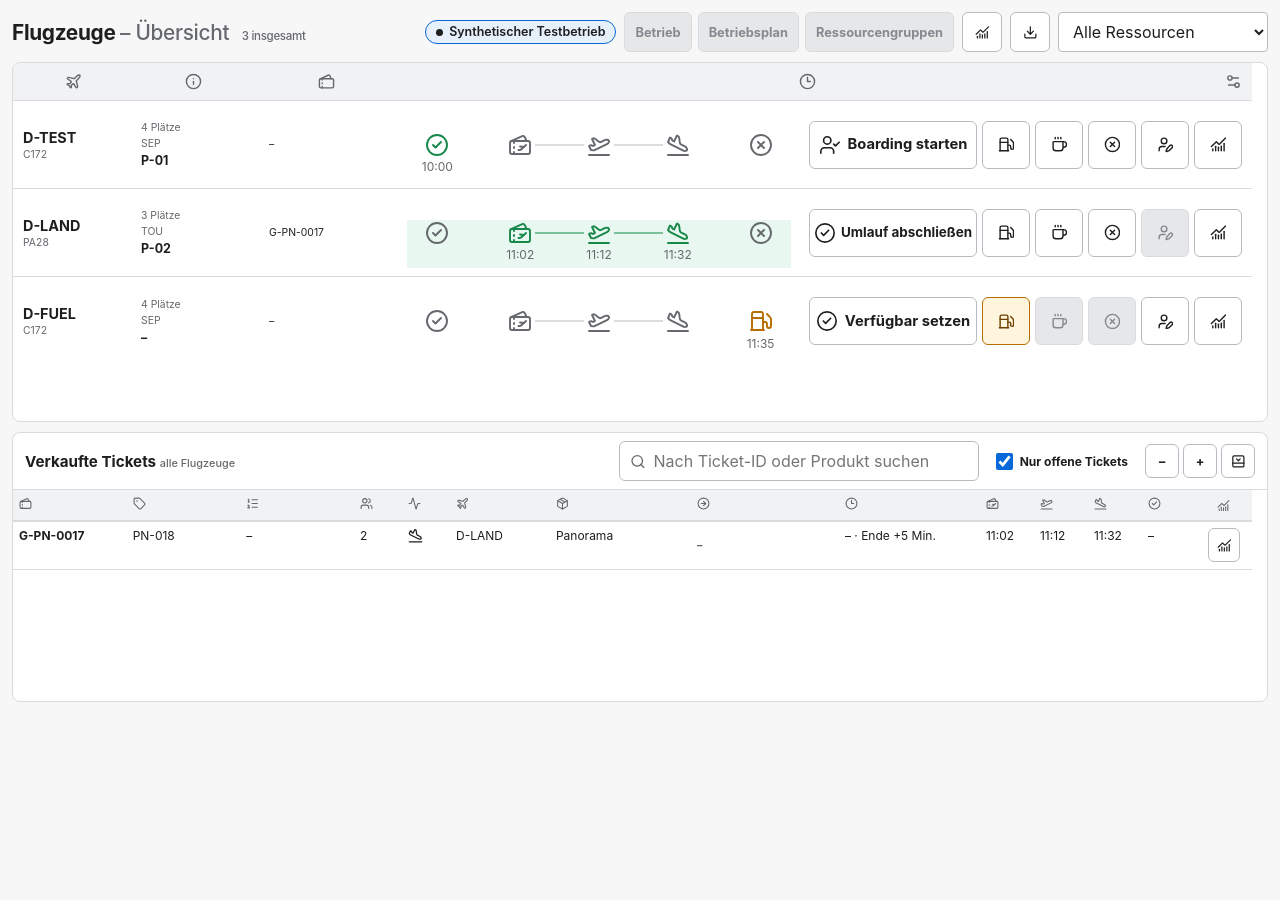
Flight Director operational coordination › keeps ticket sorting and search local to the sold-ticket overview
Step 1. Click the button named "Ticketgruppe sortieren · Standardsortierung" → {"x": 74, "y": 504}, box top-left (19, 497), bottom-right (129, 510)
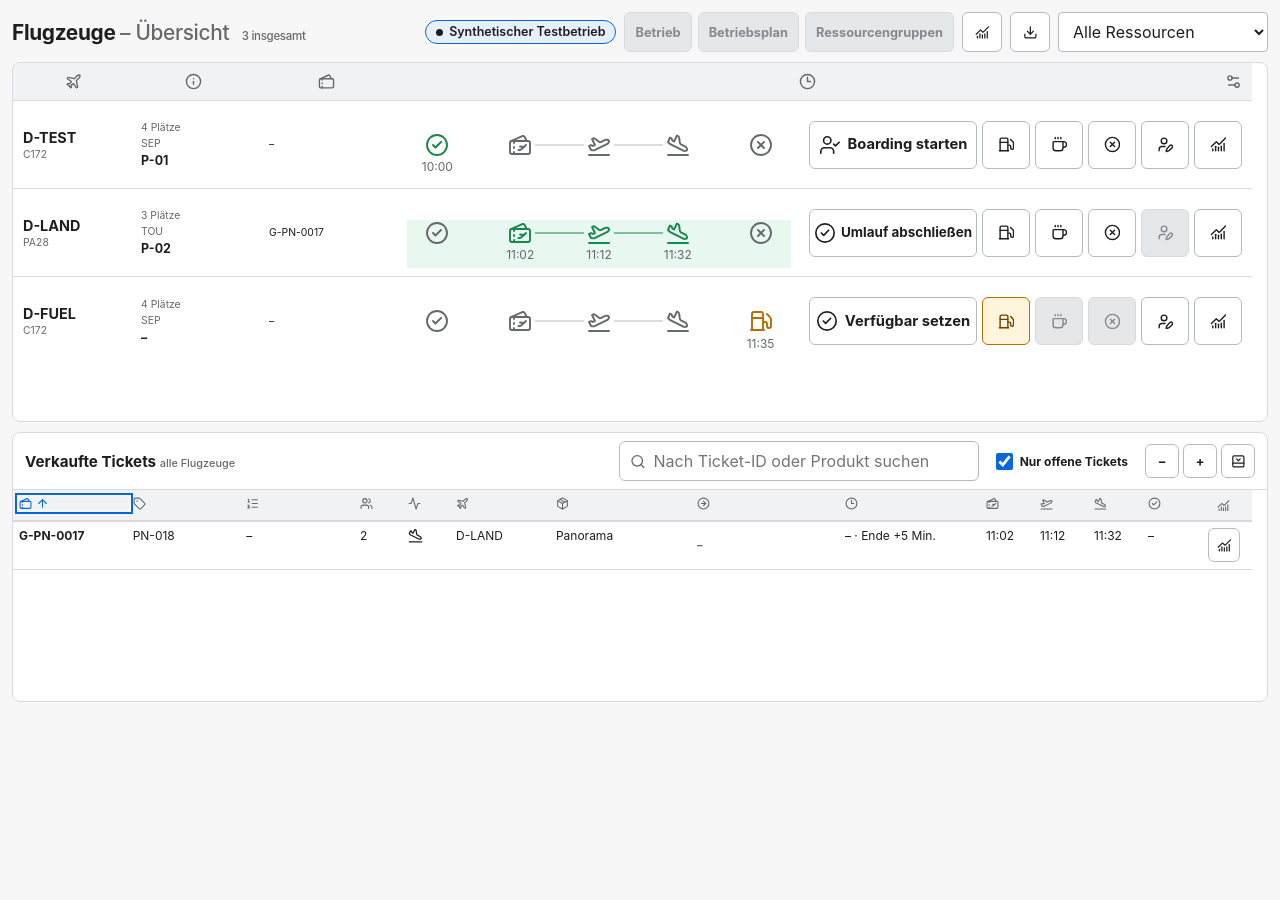
Result: the button named "Ticketgruppe sortieren · aufsteigend" is shown
Step 2. Click the button named "Ticketgruppe sortieren · aufsteigend" → {"x": 74, "y": 504}, box top-left (19, 497), bottom-right (129, 510)
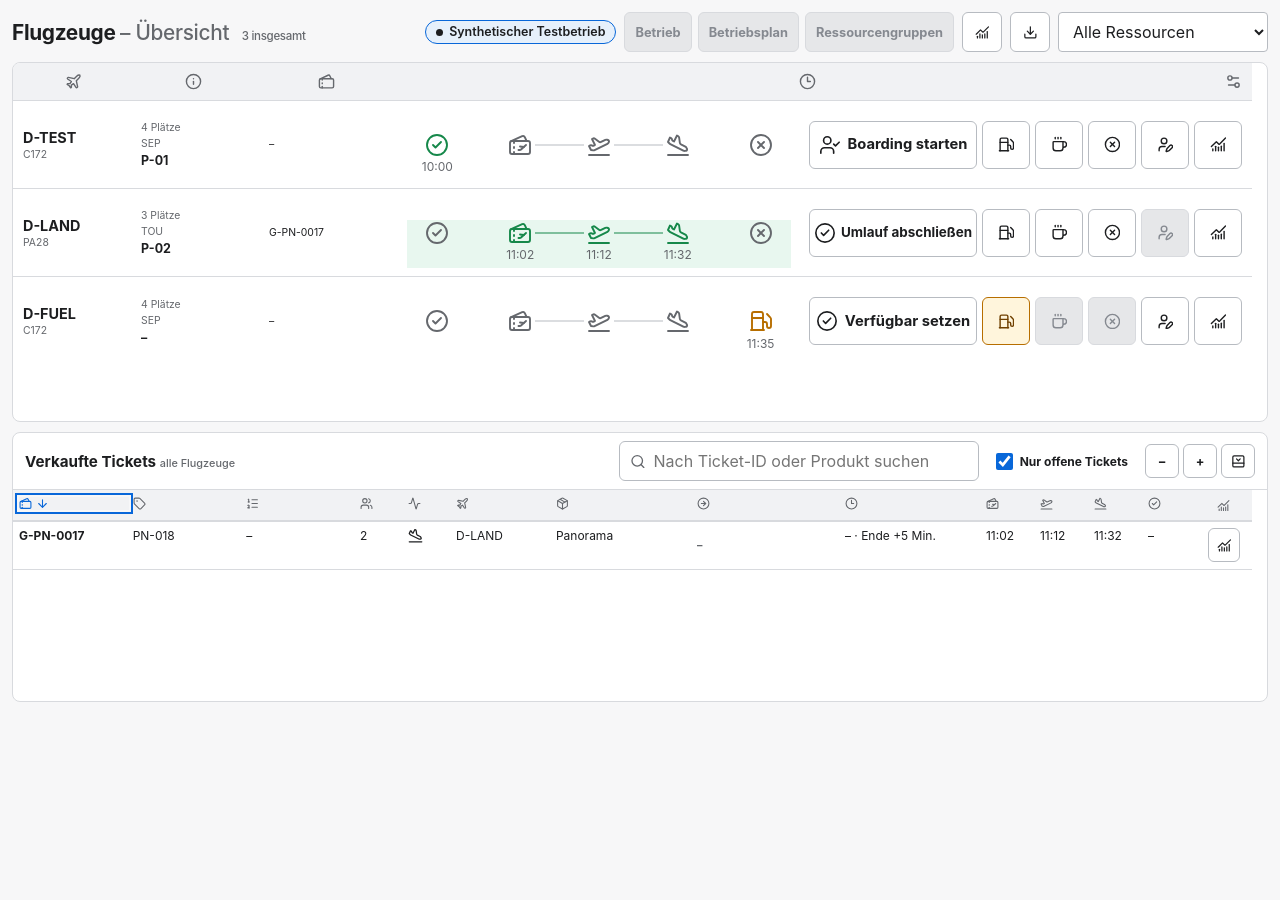
Result: the button named "Ticketgruppe sortieren · absteigend" is shown at top-left (19, 497), bottom-right (129, 510)
Step 3. Type "unbekannt" into the search field named "Verkaufte Tickets suchen" → {"x": 811, "y": 461}, box top-left (654, 445), bottom-right (968, 477)
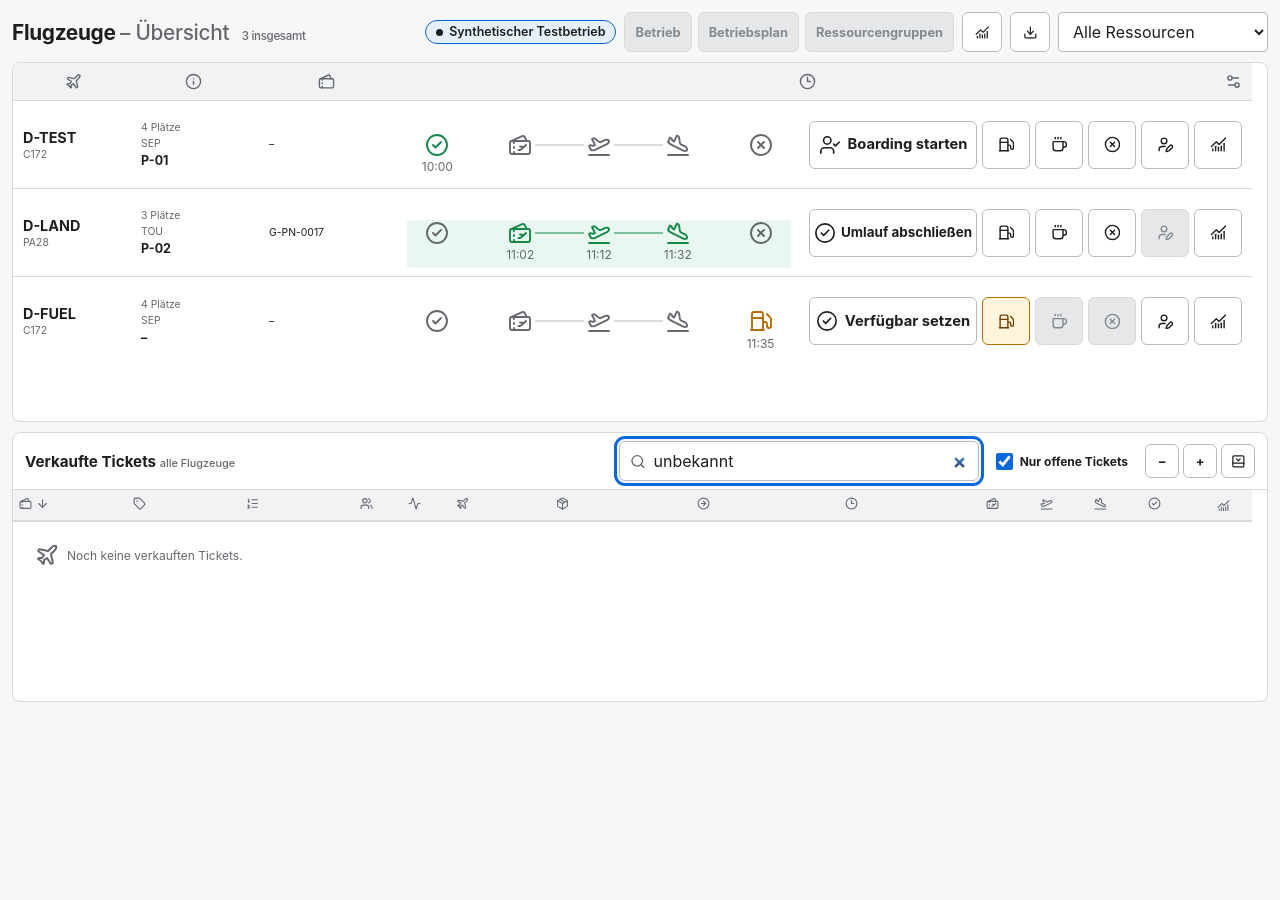
Result: the text "Noch keine verkauften Tickets." is shown at top-left (35, 543), bottom-right (243, 567)
Step 4. Clear the search field named "Verkaufte Tickets suchen" → {"x": 811, "y": 461}, box top-left (654, 445), bottom-right (968, 477)
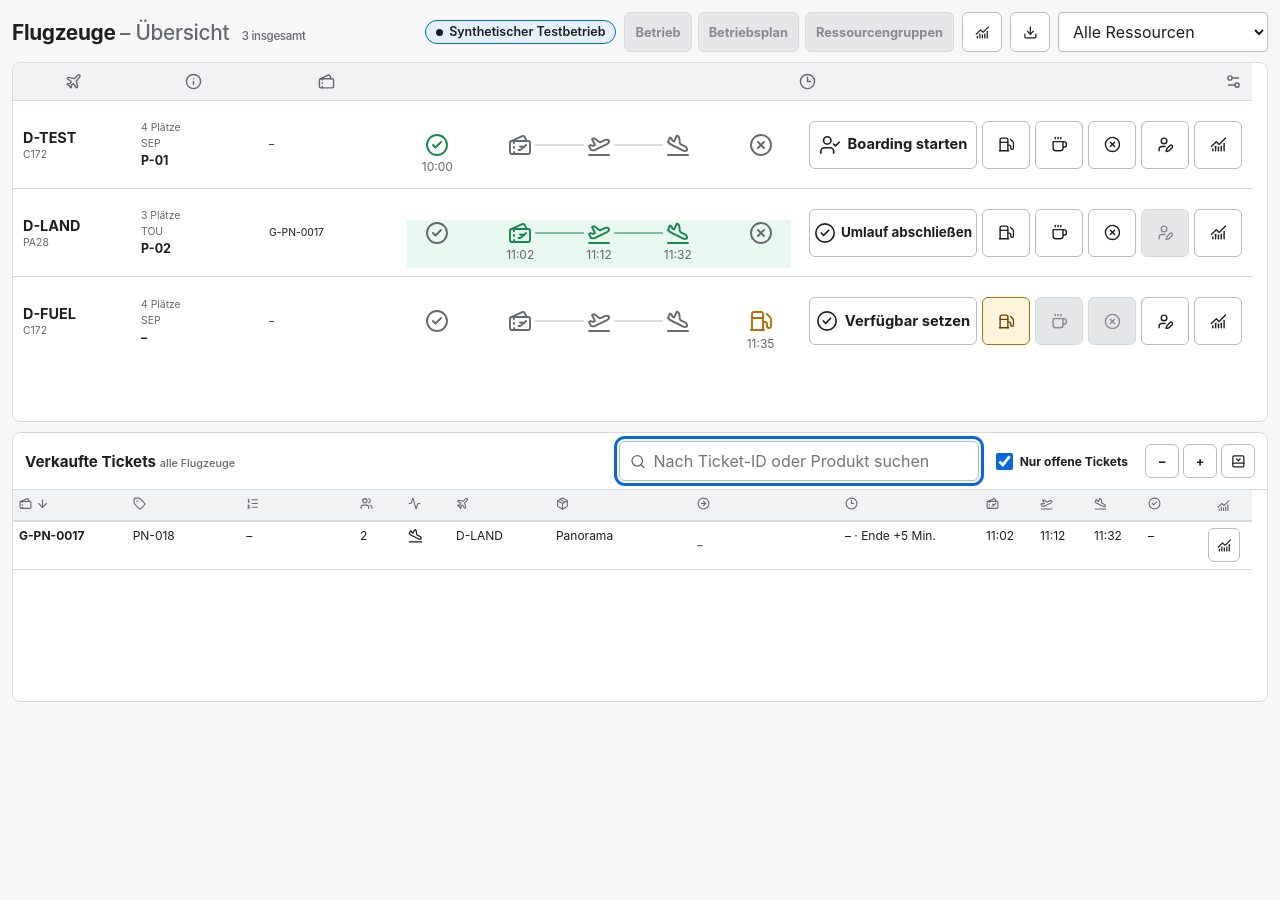
Result: the button named "Tagesauswertung für G-PN-0017 anzeigen" is shown at top-left (1208, 528), bottom-right (1240, 562)
